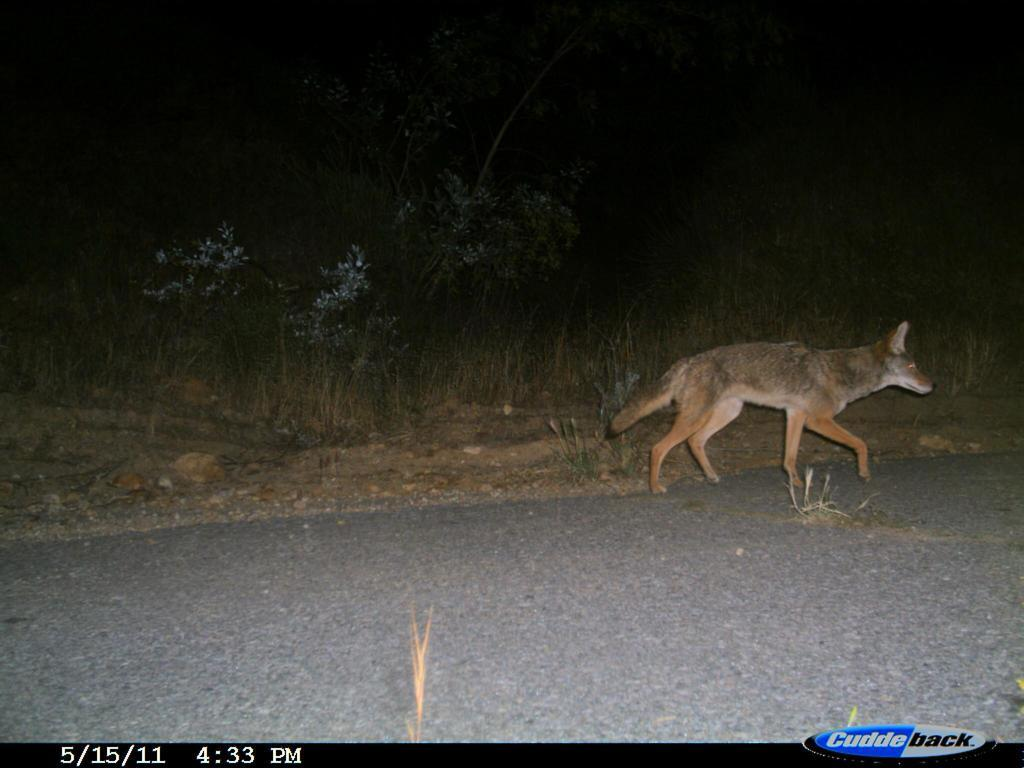coyote: (591, 300, 934, 514)
